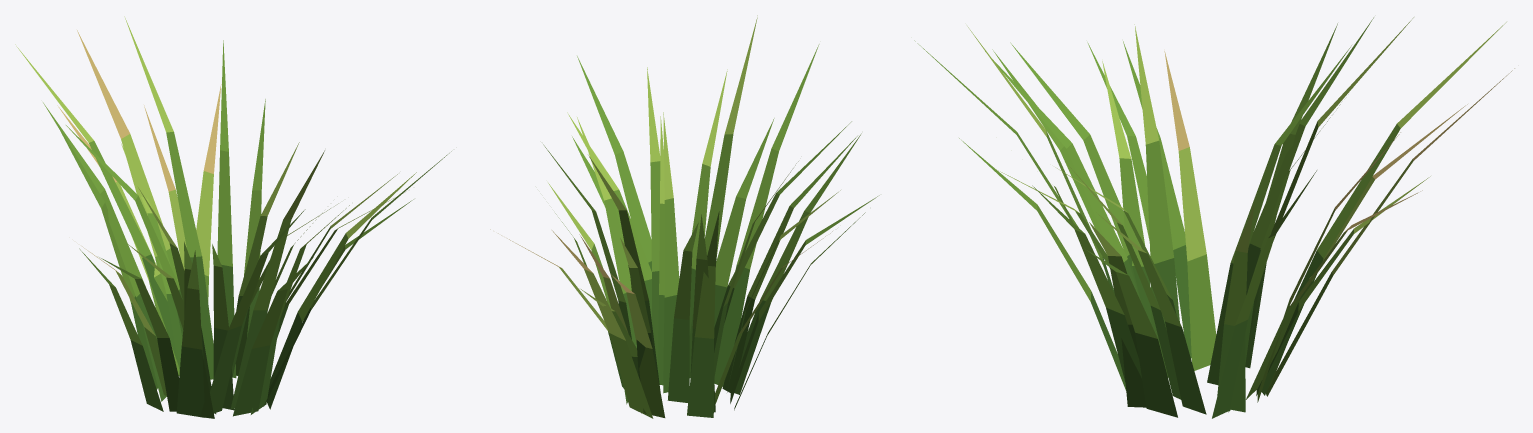
The model's file is G02_TalahibClumpMedium.glb.
3 renders of one model, left to right at view 1: azimuth 30°, elevation 25°; view 2: azimuth 150°, elevation 25°; view 3: azimuth 270°, elevation 25°, orthographic. The views are drawn at different scales.
Parts seen in each view (by area): view 1: G02_TalahibClumpMedium; view 2: G02_TalahibClumpMedium; view 3: G02_TalahibClumpMedium.
Boxes of the visible parts, left/top/right/bottom form: G02_TalahibClumpMedium: left=15, top=16, right=451, bottom=418; G02_TalahibClumpMedium: left=490, top=15, right=879, bottom=418; G02_TalahibClumpMedium: left=914, top=17, right=1514, bottom=418.
Bounding box in the file's own units: 2.04 × 1.82 × 2.62.
